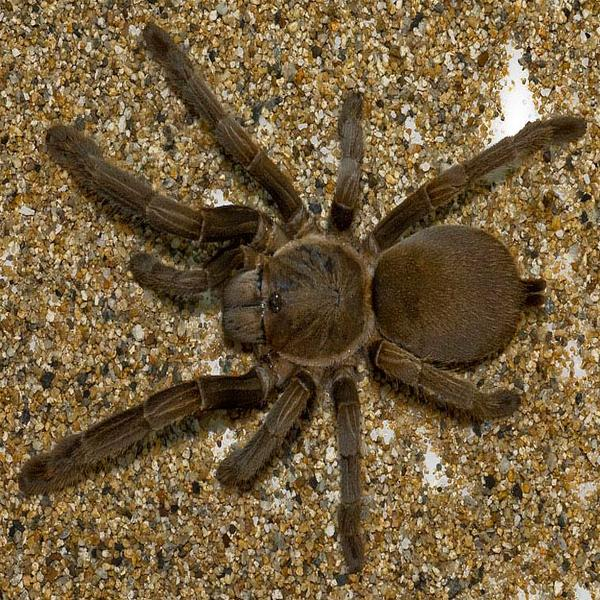Tarantula Spider: (48, 34, 564, 543)
